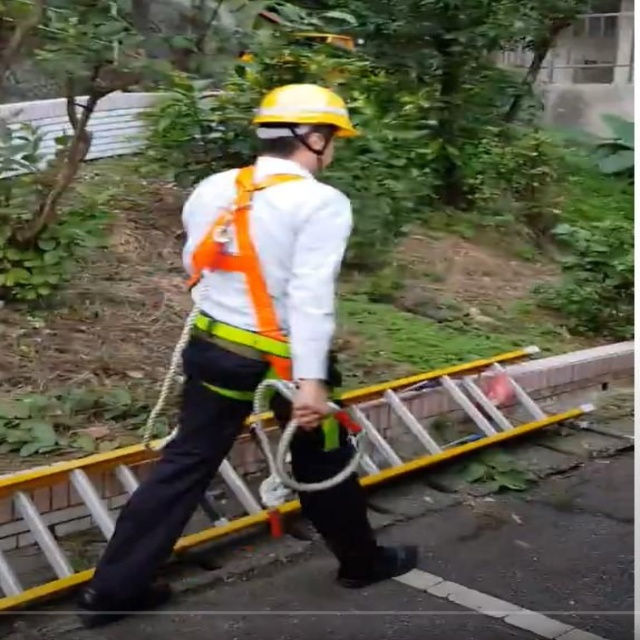Arnes_seguridad: (182, 166, 342, 433)
